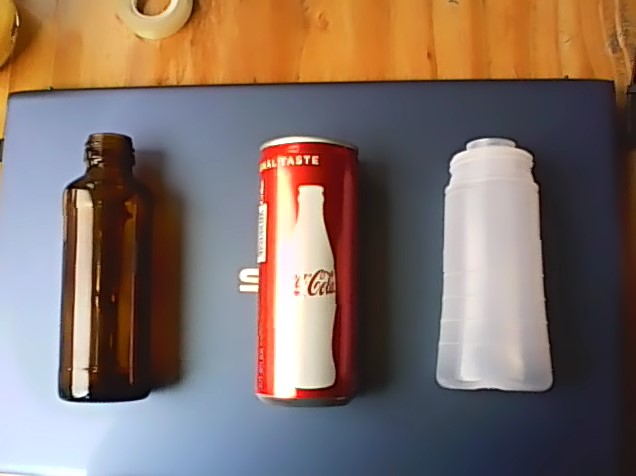Can: (250, 132, 363, 414)
Glass: (54, 128, 154, 405)
Plastic: (430, 133, 557, 399)
